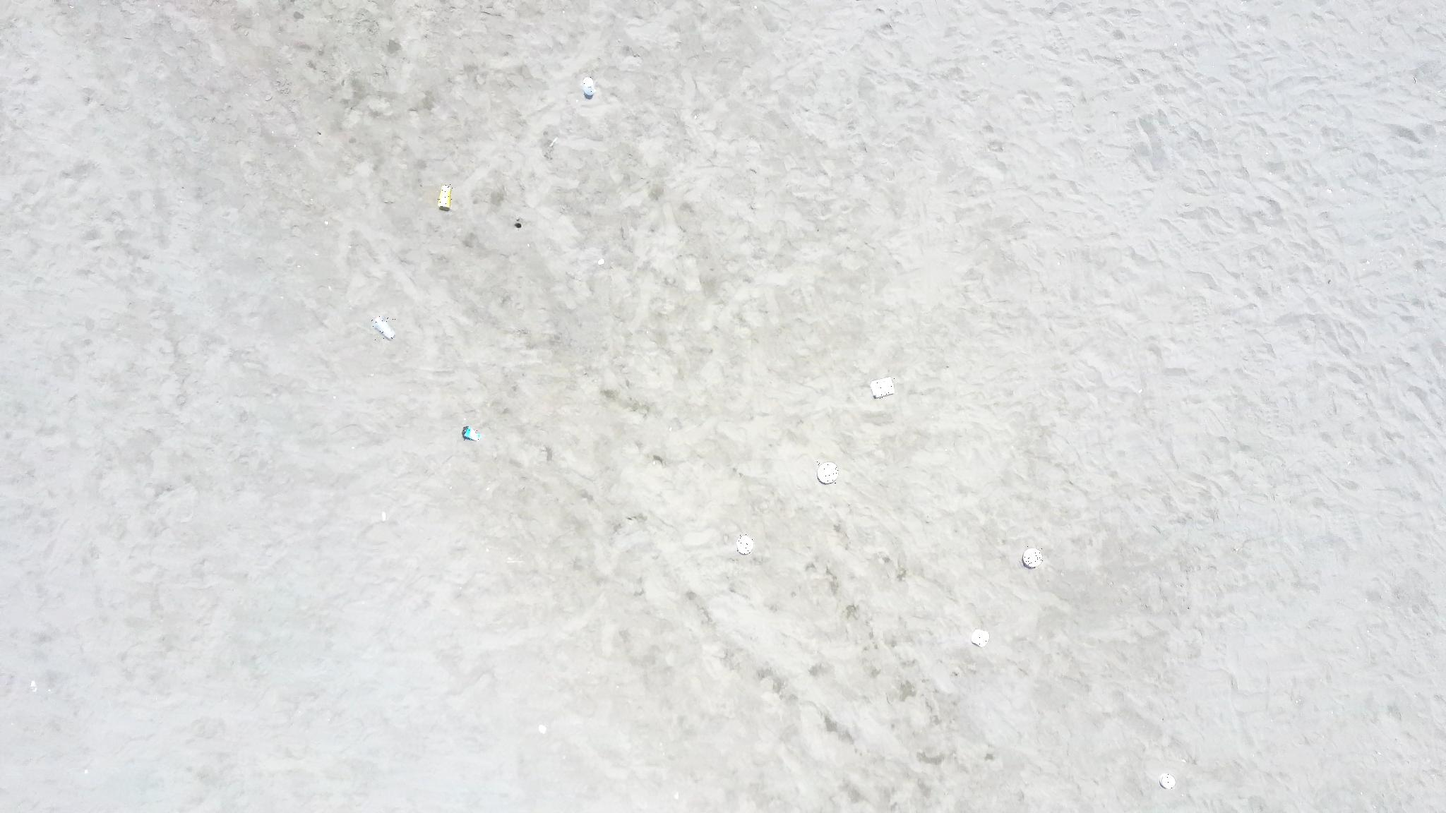Garbage: (371, 317, 393, 339), (816, 462, 838, 483), (869, 378, 893, 397), (1021, 547, 1041, 567), (438, 184, 452, 209), (737, 534, 753, 553), (970, 630, 988, 646), (1159, 772, 1175, 789), (582, 77, 594, 99), (462, 426, 479, 440), (537, 725, 547, 734), (515, 218, 522, 229), (597, 258, 604, 265)
